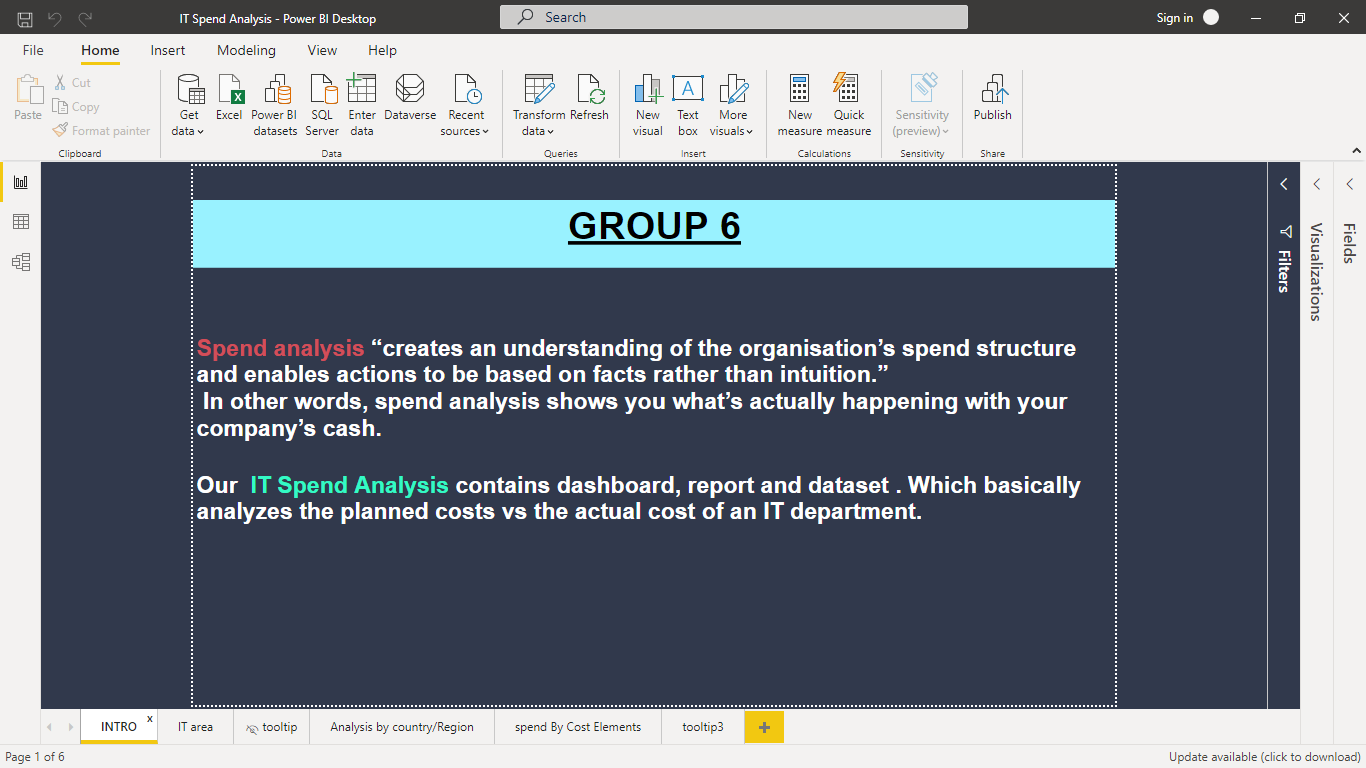

Layout of this report page (visuals, bound fields, positions):
{"tool":"powerbi","page":{"name":"INTRO","canvas":[1280,720],"ordinal":0},"visuals":[{"type":"textbox","box":[0,19.4,1280.5,94.3],"z":0},{"type":"textbox","box":[0,159.5,1280.5,377.3],"z":1000}]}

Visuals, with their boxes on the page's 1280x720 design canvas (x1, y1, x2, y2). These are canvas units, not pixel positions in the 1366x768 screenshot, which may show the page scaled, cropped or inside an application window:
textbox: l=0, t=19, r=1280, b=114
textbox: l=0, t=160, r=1280, b=537
